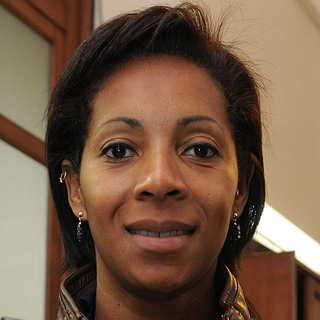eye: (173, 133, 227, 167), (95, 136, 143, 166)
